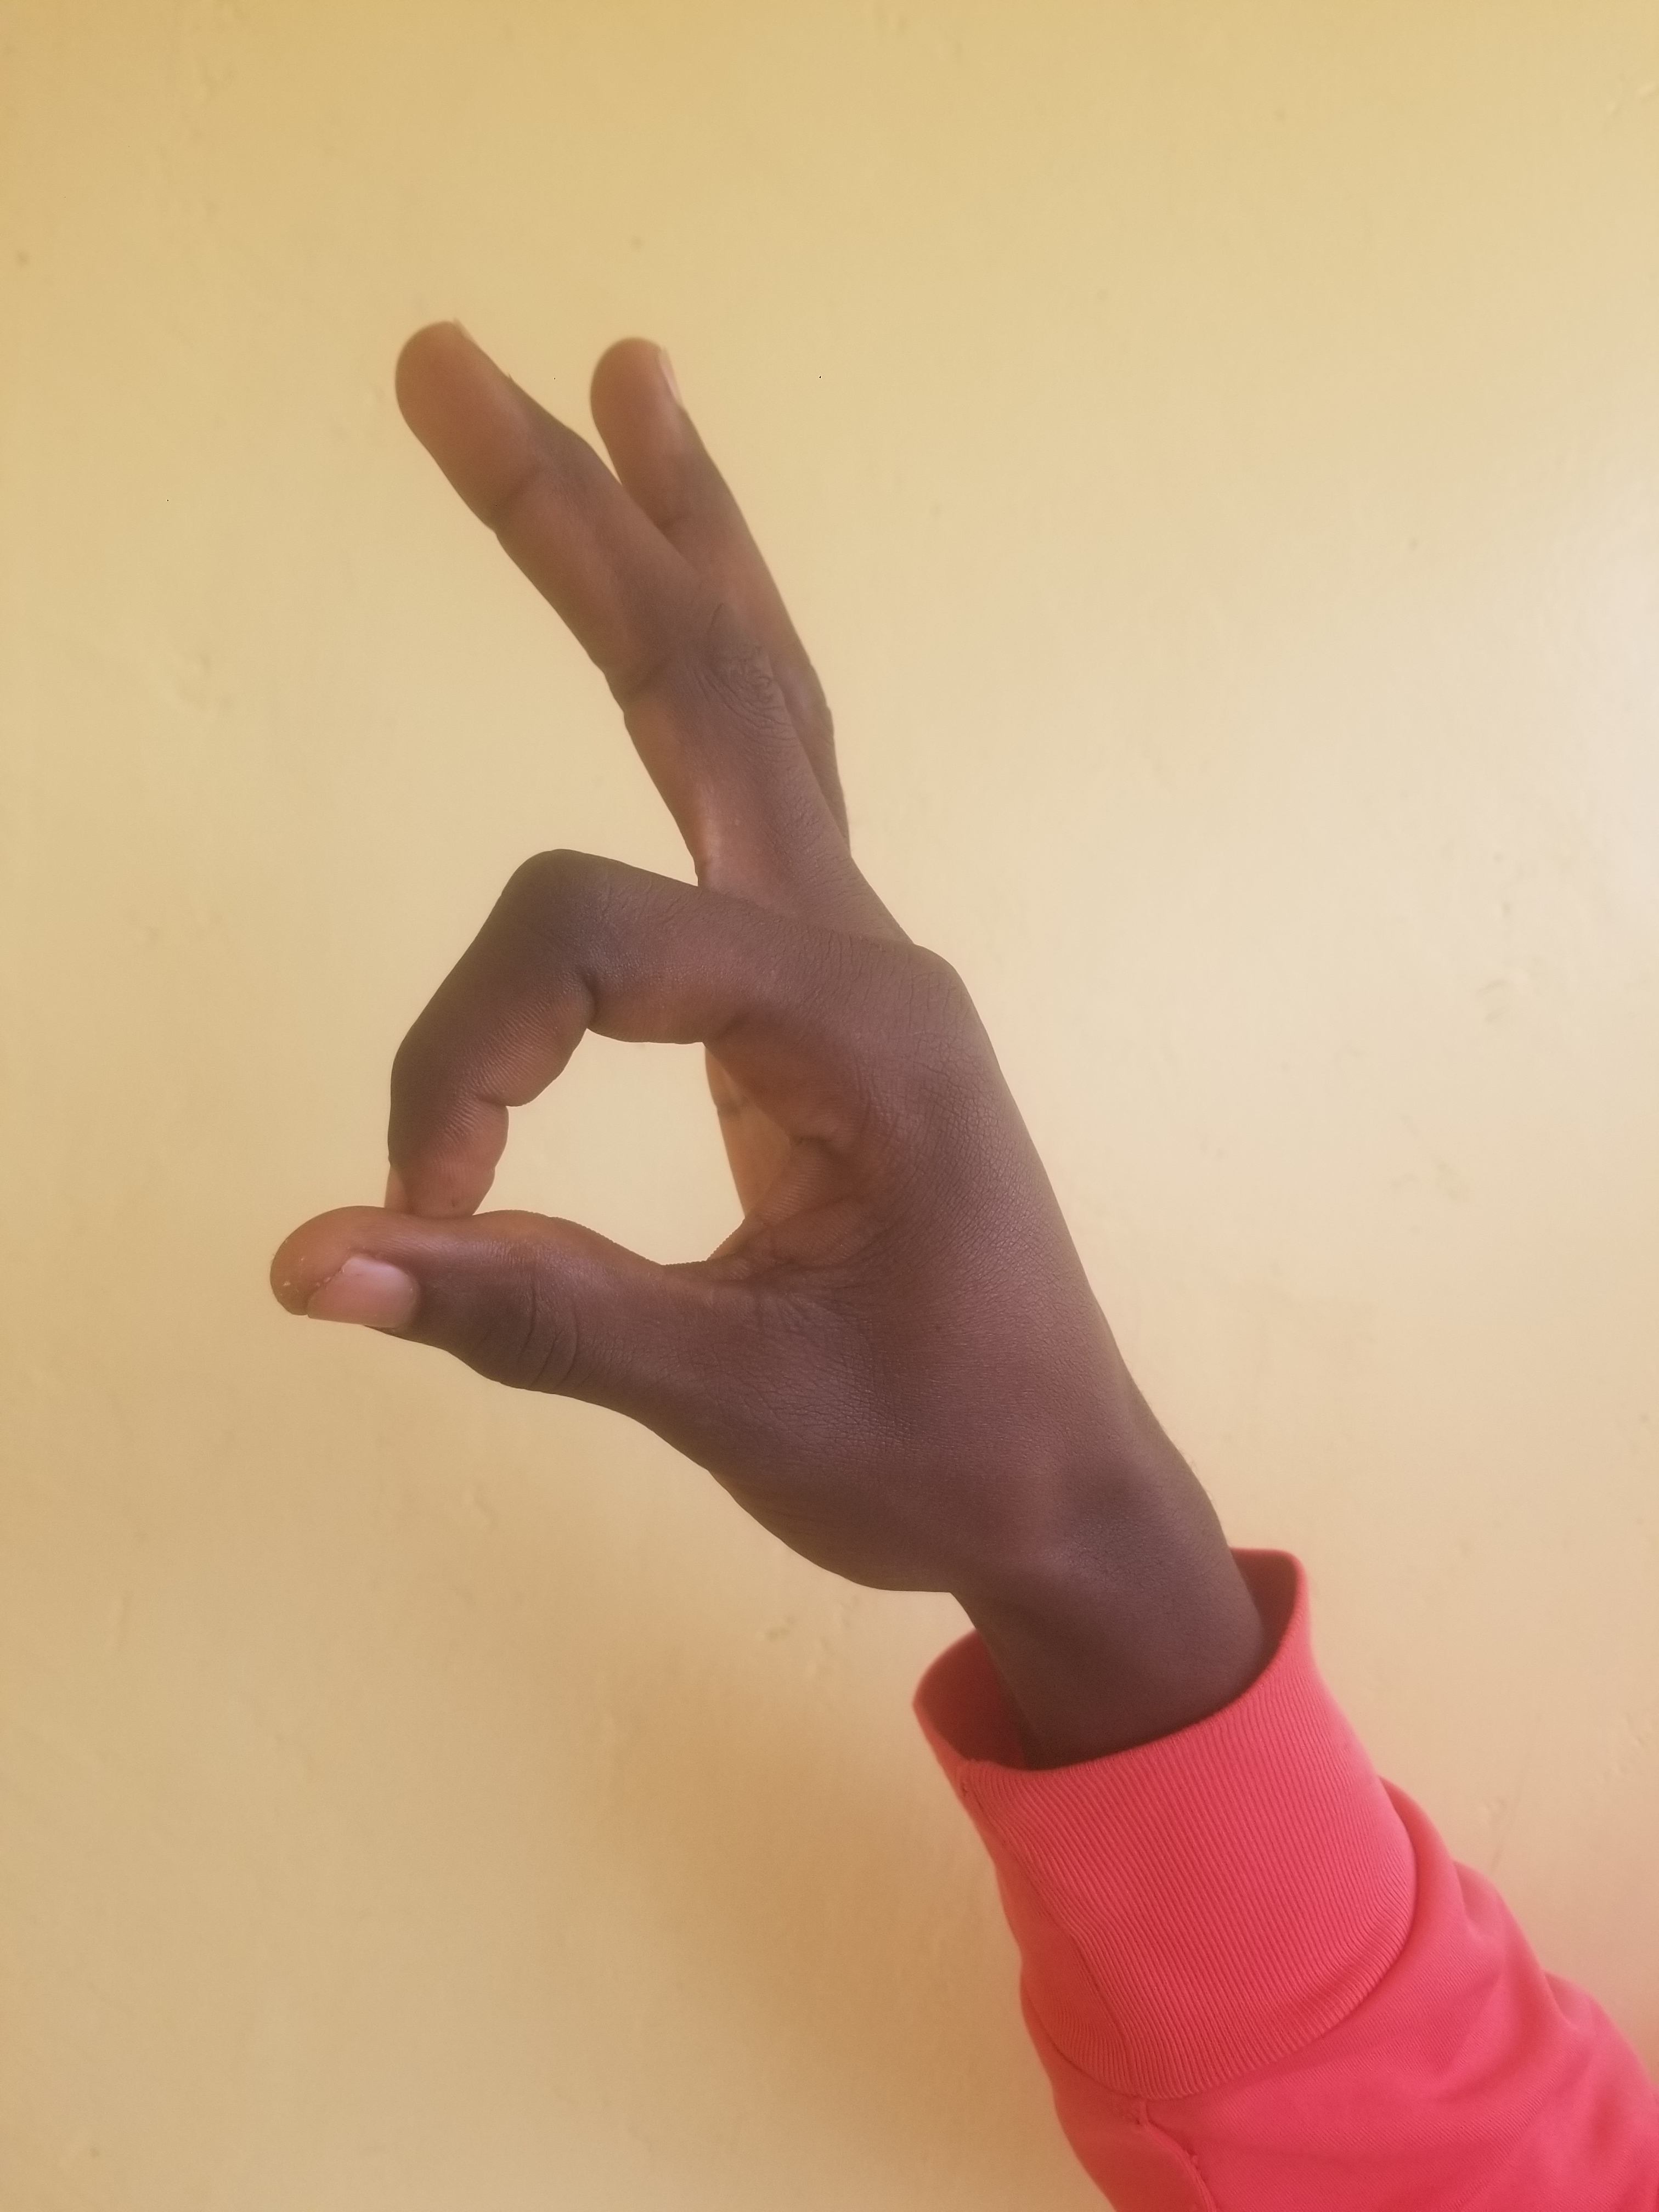ok: (272, 247, 1312, 1895)
